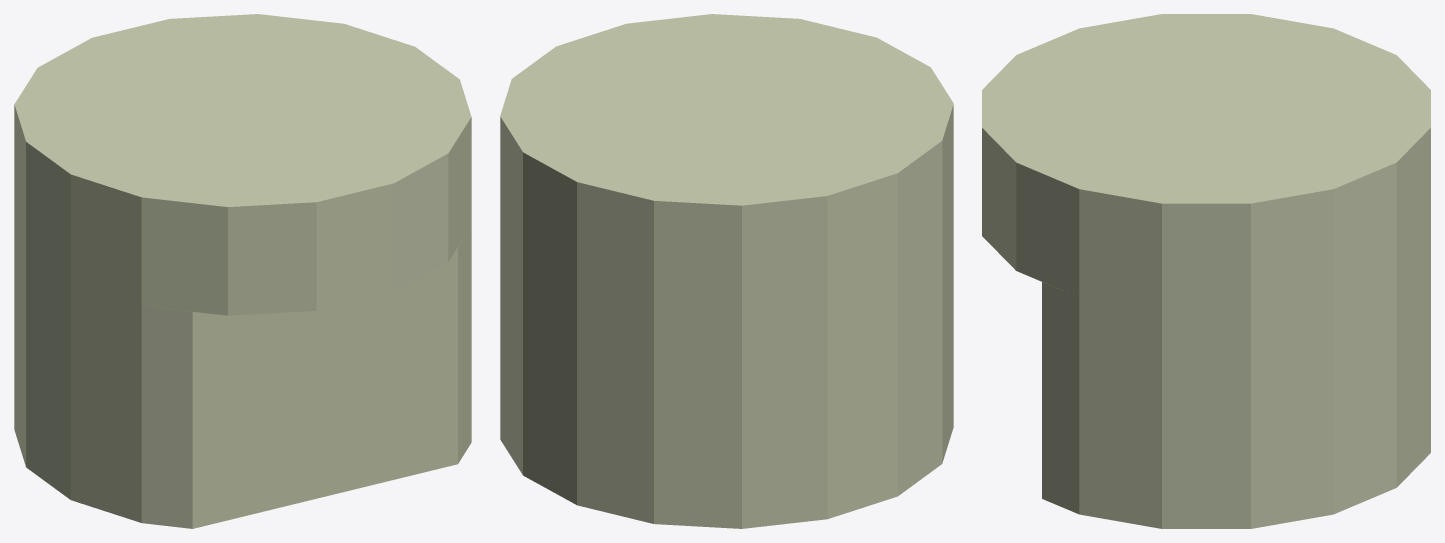
Rendered from tantares_lv_engine_s1p5_2_collider.obj.
The picture shows the model from 3 angles, left to right: view 1: azimuth 30°, elevation 25°; view 2: azimuth 150°, elevation 25°; view 3: azimuth 270°, elevation 25°; orthographic projection.
Visible parts, largest first — view 1: tantares_lv_engine_s1p5_2_collider1_copy2, tantares_lv_engine_s1p5_2_collider1; view 2: tantares_lv_engine_s1p5_2_collider1_copy2, tantares_lv_engine_s1p5_2_collider1; view 3: tantares_lv_engine_s1p5_2_collider1_copy2, tantares_lv_engine_s1p5_2_collider1.
Boxes of the visible parts, x1=… form: tantares_lv_engine_s1p5_2_collider1_copy2: x1=14, y1=14, x2=471, y2=315; tantares_lv_engine_s1p5_2_collider1: x1=14, y1=213, x2=471, y2=528; tantares_lv_engine_s1p5_2_collider1_copy2: x1=500, y1=14, x2=953, y2=313; tantares_lv_engine_s1p5_2_collider1: x1=500, y1=212, x2=953, y2=528; tantares_lv_engine_s1p5_2_collider1_copy2: x1=982, y1=14, x2=1430, y2=311; tantares_lv_engine_s1p5_2_collider1: x1=1042, y1=236, x2=1430, y2=528.
Size of the model in its own units: 1.88 by 1.5 by 1.88.
